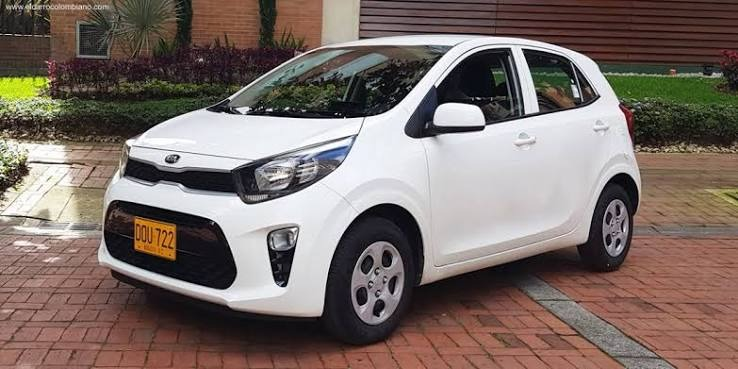car: (107, 25, 632, 338)
